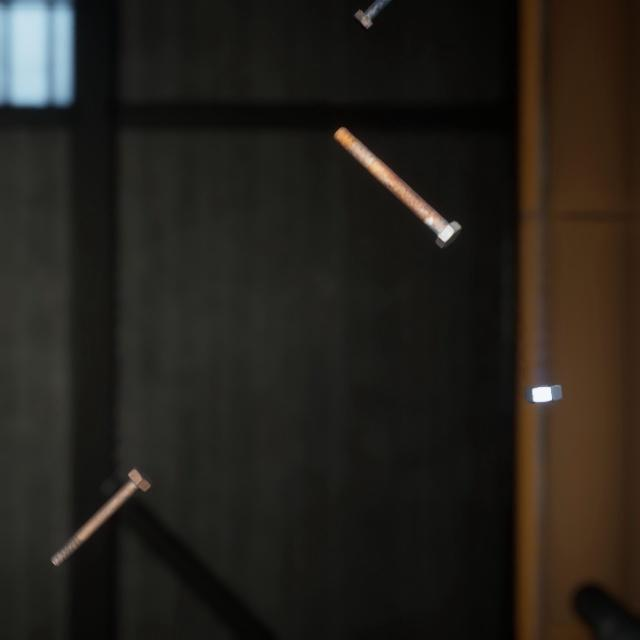bolt: (329, 109, 466, 239), (45, 439, 157, 550), (349, 0, 392, 31)
nut: (520, 360, 566, 388)
